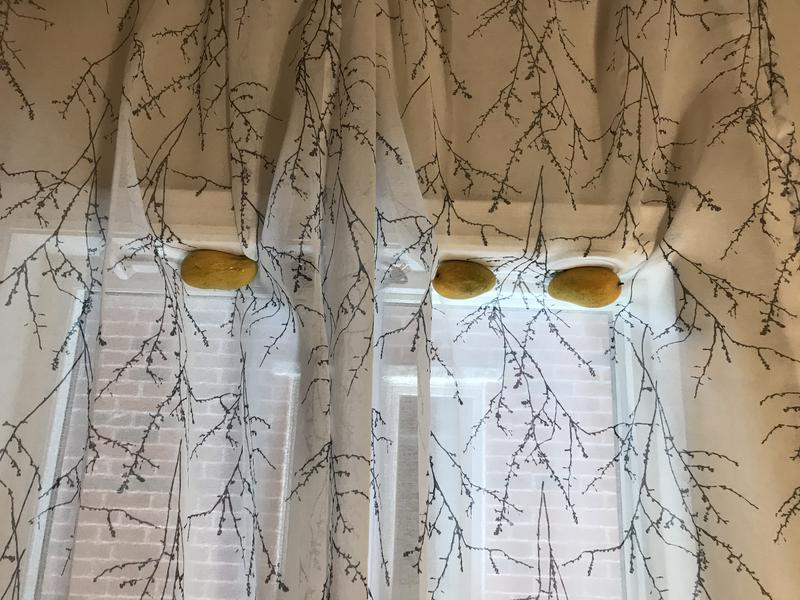mango: (542, 261, 629, 313), (178, 248, 261, 295), (424, 256, 500, 302)
